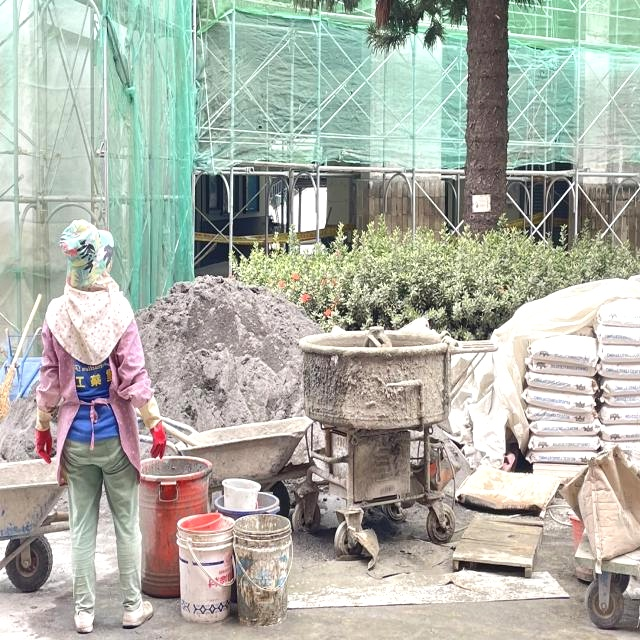Sin_Casco_Mascarrilla: (62, 219, 115, 282)
Sin_Chaleco: (52, 291, 130, 460)
